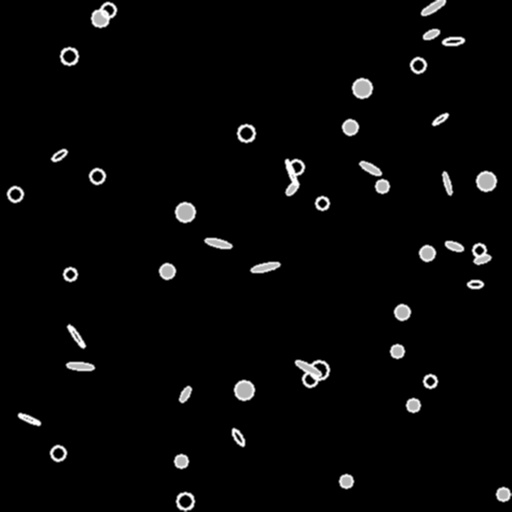pseudomonas: (294, 358, 322, 378), (66, 324, 86, 348), (250, 260, 280, 274), (420, 0, 446, 16), (204, 236, 232, 250), (284, 159, 298, 185), (359, 160, 381, 176), (230, 427, 246, 447), (18, 412, 40, 426), (444, 239, 464, 253), (284, 180, 300, 196), (178, 385, 192, 403), (50, 148, 68, 162), (422, 27, 440, 41), (432, 112, 448, 126), (66, 362, 94, 370), (442, 172, 452, 194), (443, 36, 463, 46), (473, 254, 491, 264), (467, 281, 482, 288)
synechocystis: (353, 79, 371, 97), (310, 361, 328, 379), (176, 203, 194, 221), (235, 381, 253, 399), (477, 172, 495, 190), (177, 493, 193, 509), (61, 48, 77, 64), (238, 125, 254, 141), (92, 10, 108, 26), (411, 58, 425, 72), (395, 305, 409, 319), (289, 160, 303, 174), (160, 264, 174, 278), (90, 169, 104, 183), (303, 372, 317, 386), (420, 246, 434, 260), (101, 3, 115, 17), (51, 446, 65, 460), (343, 120, 357, 134), (8, 187, 22, 201), (424, 375, 436, 387), (175, 455, 187, 467), (407, 399, 419, 411), (497, 488, 509, 500), (340, 475, 352, 487), (473, 244, 485, 256), (391, 345, 403, 357), (376, 180, 388, 192), (316, 197, 328, 209), (64, 268, 76, 280)
